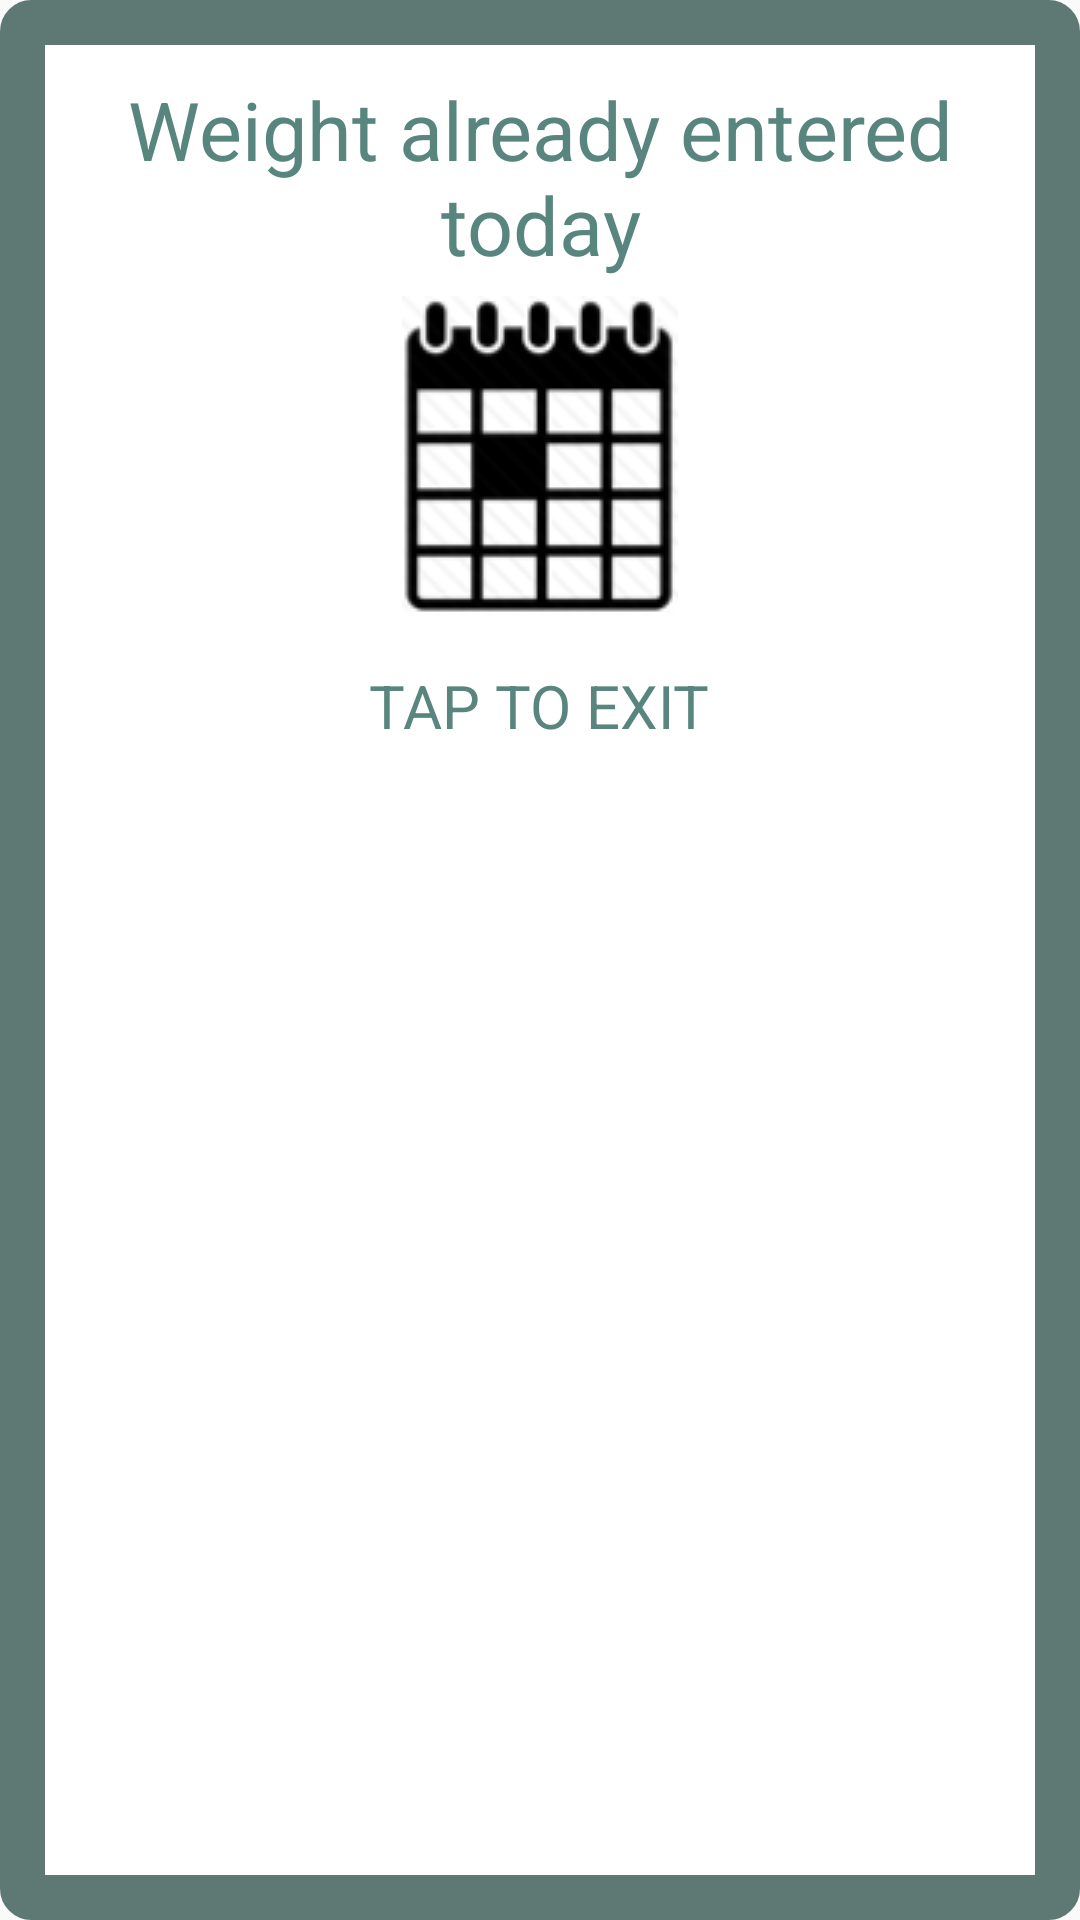

Where icons sit on this 1080px x 1920px app screen, as [x1, y1, x2, y2]:
calen: [404, 301, 673, 612]
